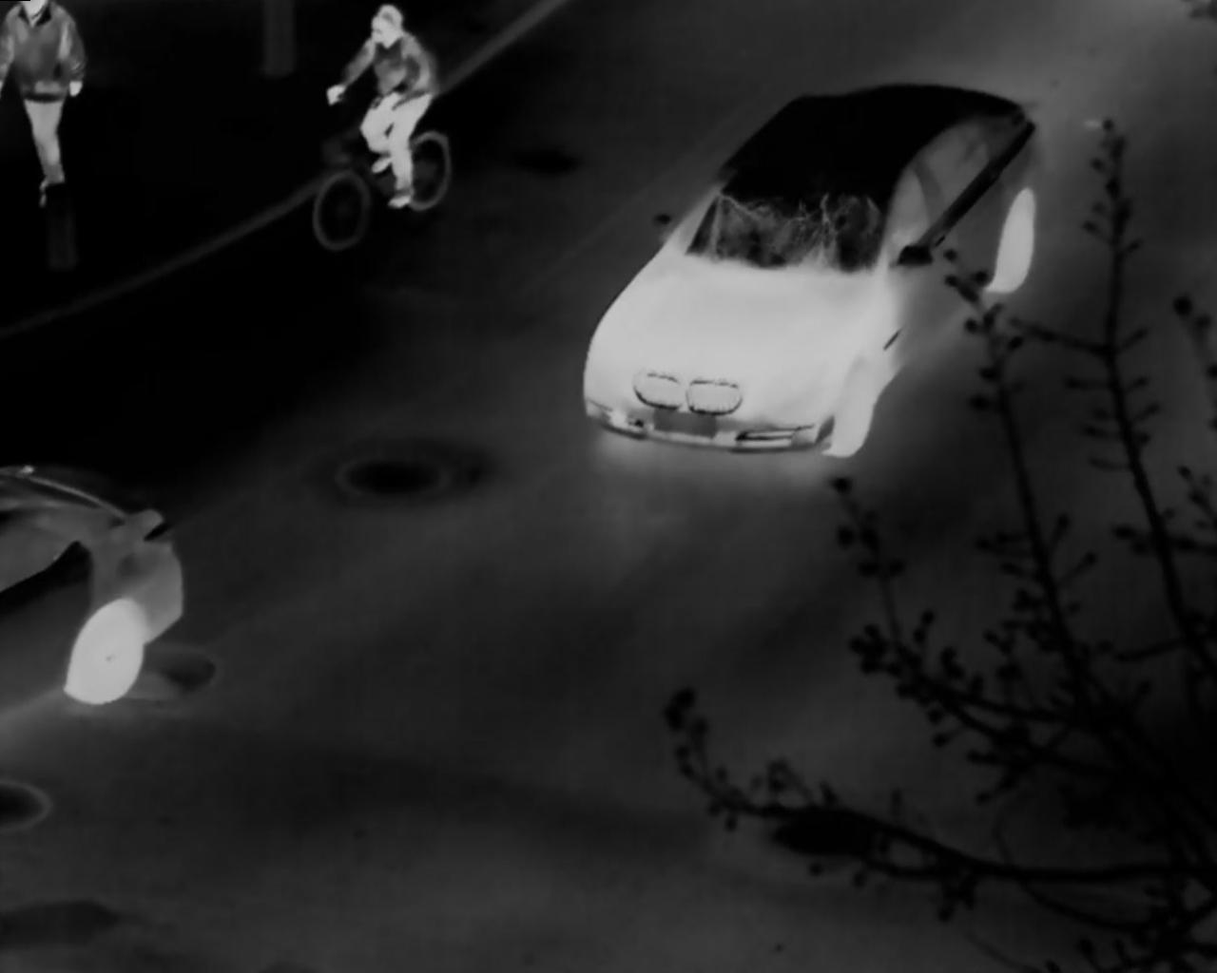person: (325, 3, 439, 209)
